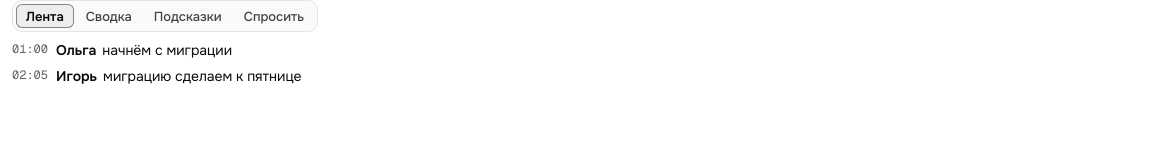
Test: условия не приняты, прежний режим — пометка вместо «Спросить»
Click the tab "Спросить". click: x=274, y=16
box: [234,4,314,28]
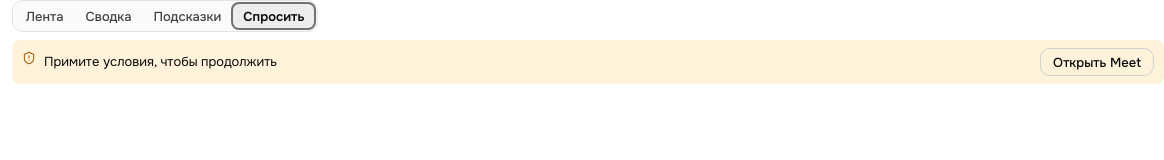
Check: the text "Примите условия, чтобы продолжить" is shown, box [44,53,277,70]
